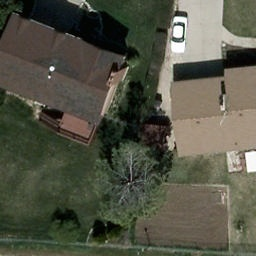car: (170, 16, 189, 53)
